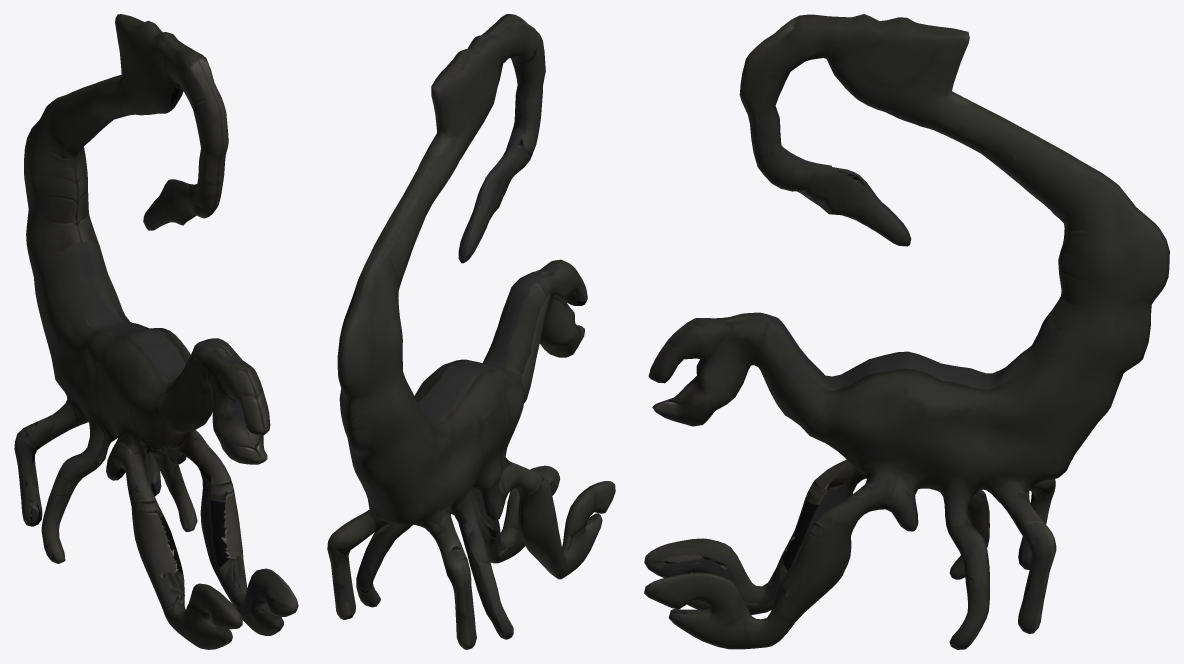
File: escorpiones.glb
The picture shows the model from 3 angles, left to right: view 1: azimuth 30°, elevation 25°; view 2: azimuth 150°, elevation 25°; view 3: azimuth 270°, elevation 25°; orthographic projection. The views are drawn at different scales.
Bounding box in the file's own units: 0.5513 × 1.99 × 1.54.
Materials: 1 (1 with a texture image).
